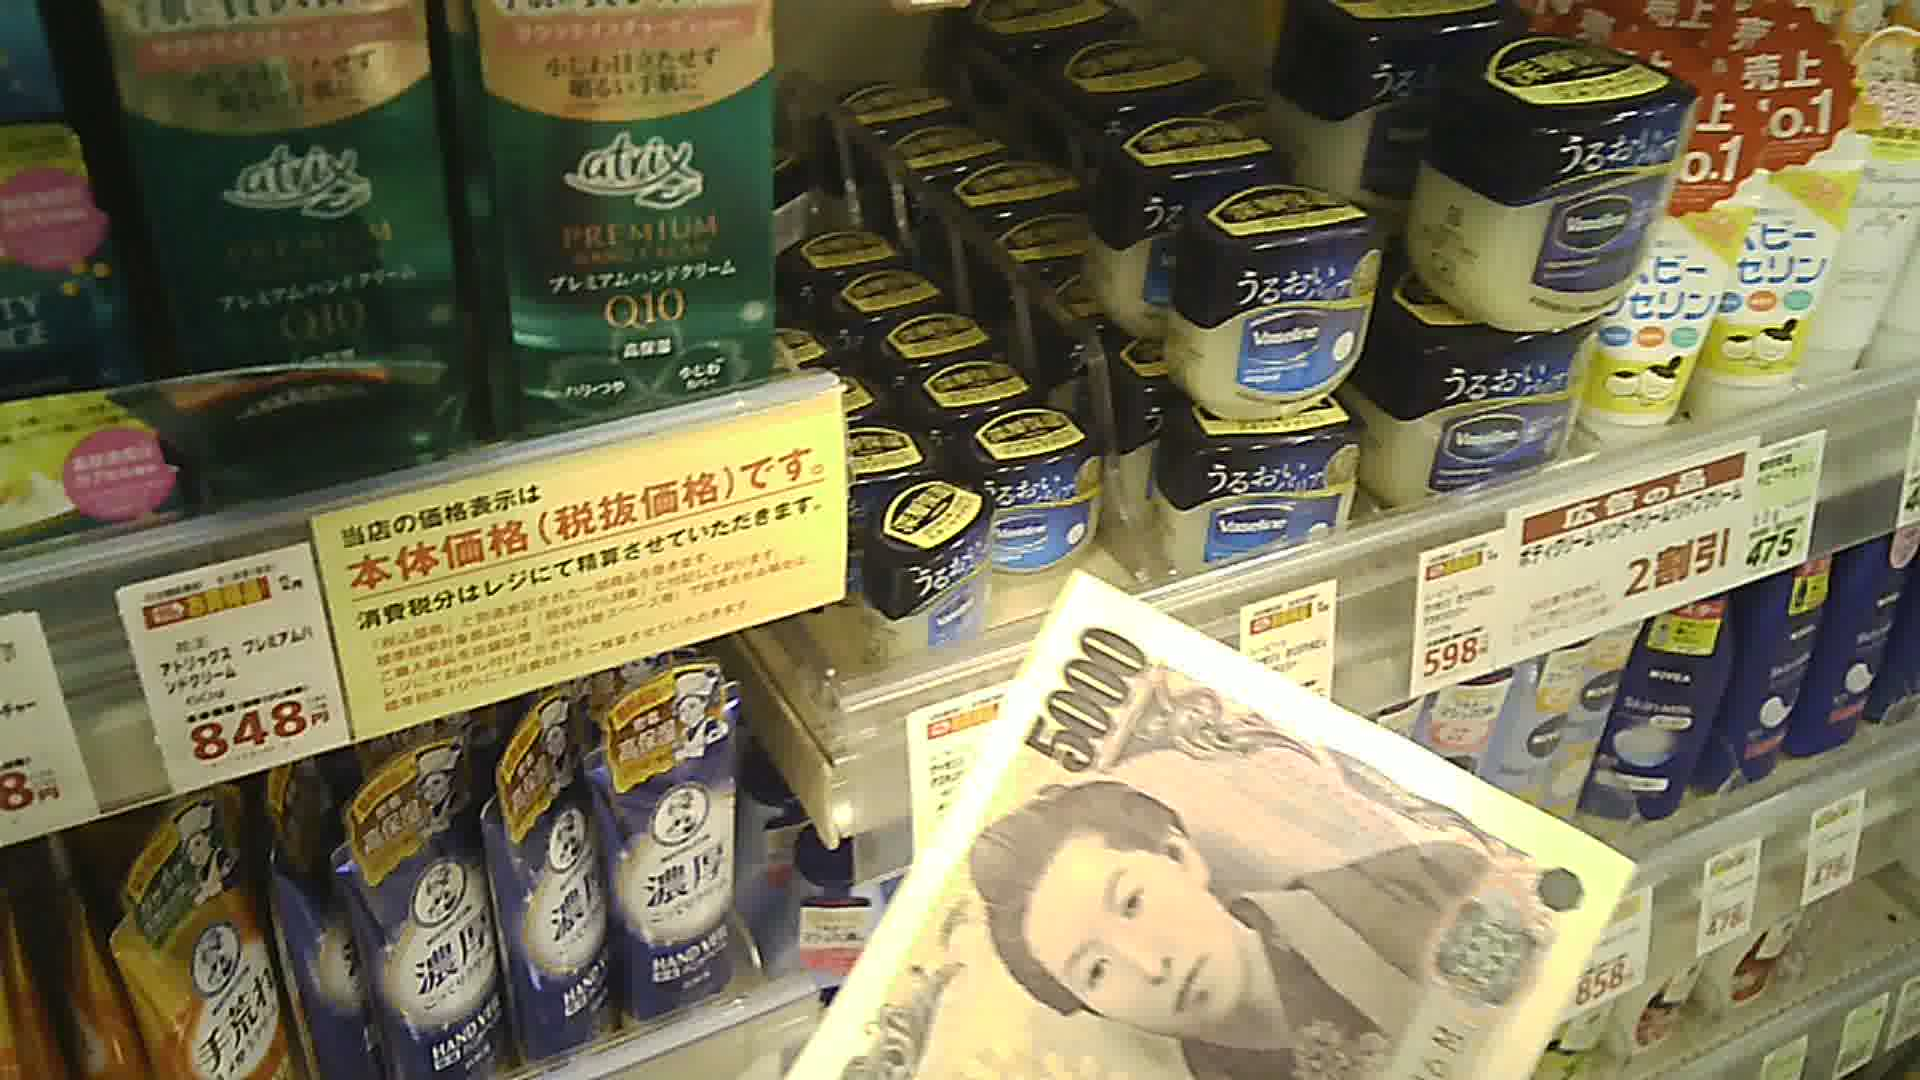5,000 Yen: (833, 558, 1597, 1079)
